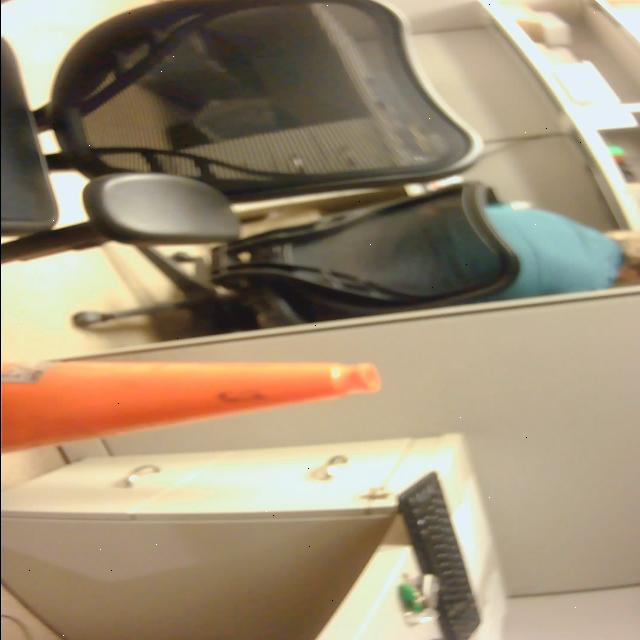traffic cone: (1, 346, 389, 466)
